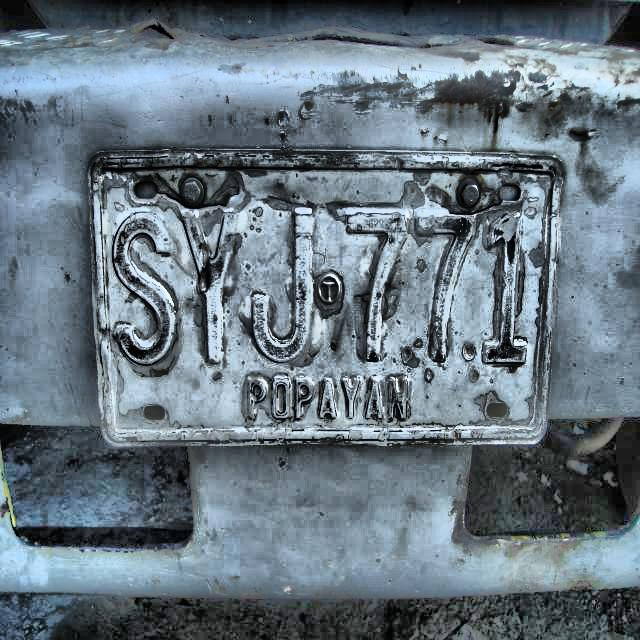plate: (87, 151, 565, 447)
